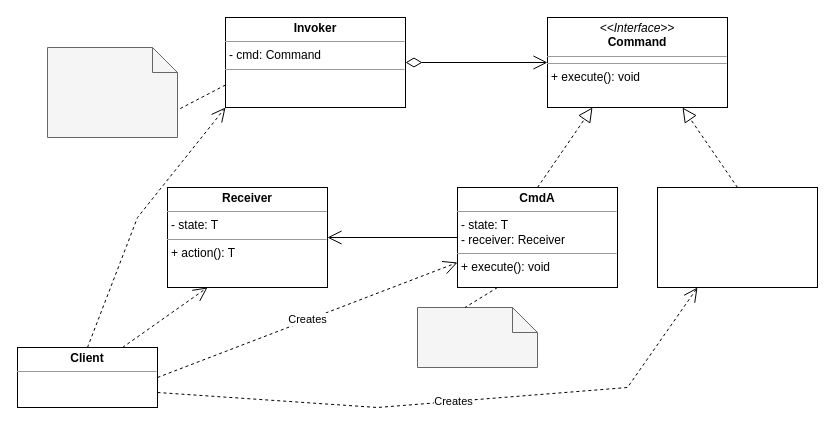
This 835x439 diagram has some shape labels left out. The centre of each missing label's shape, as x and y in pixels:
... cmd.execute(); ...: the point at 112,92
CmdB - state: T + execute(): void: the point at 737,237
reveiver.action();: the point at 477,337
